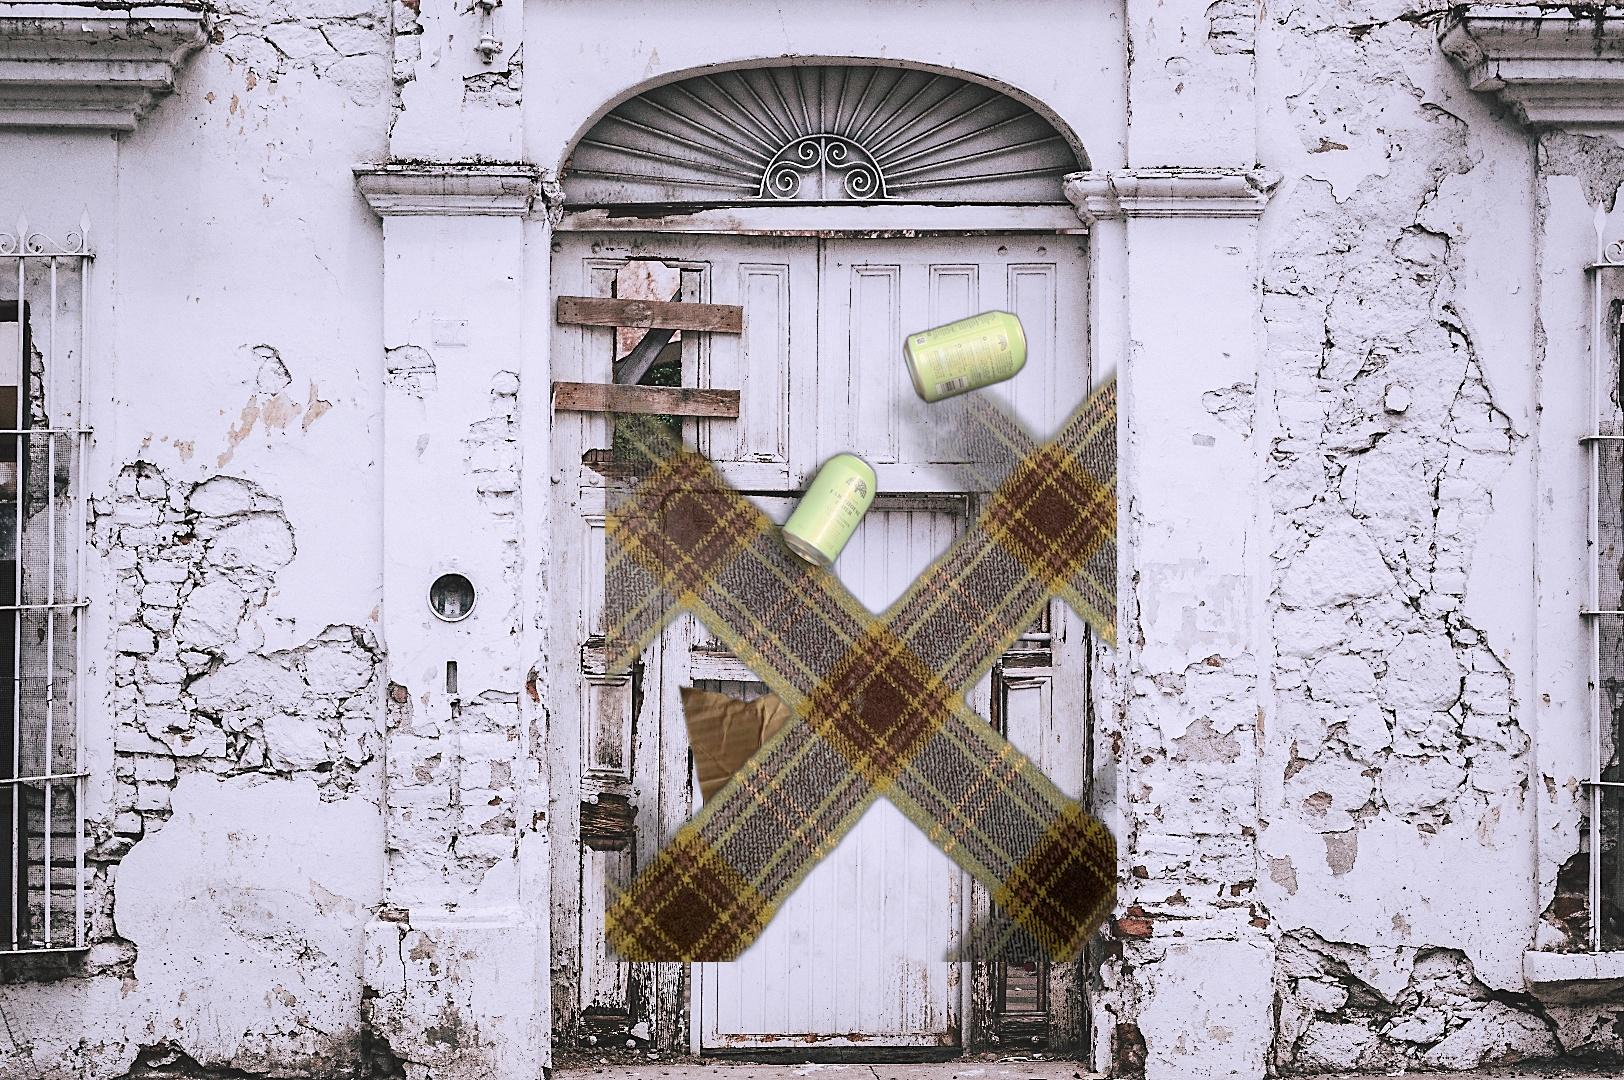metal-cans: (605, 278, 1117, 962), (899, 304, 1032, 410)
trashbox-cardboard: (673, 675, 845, 870)
